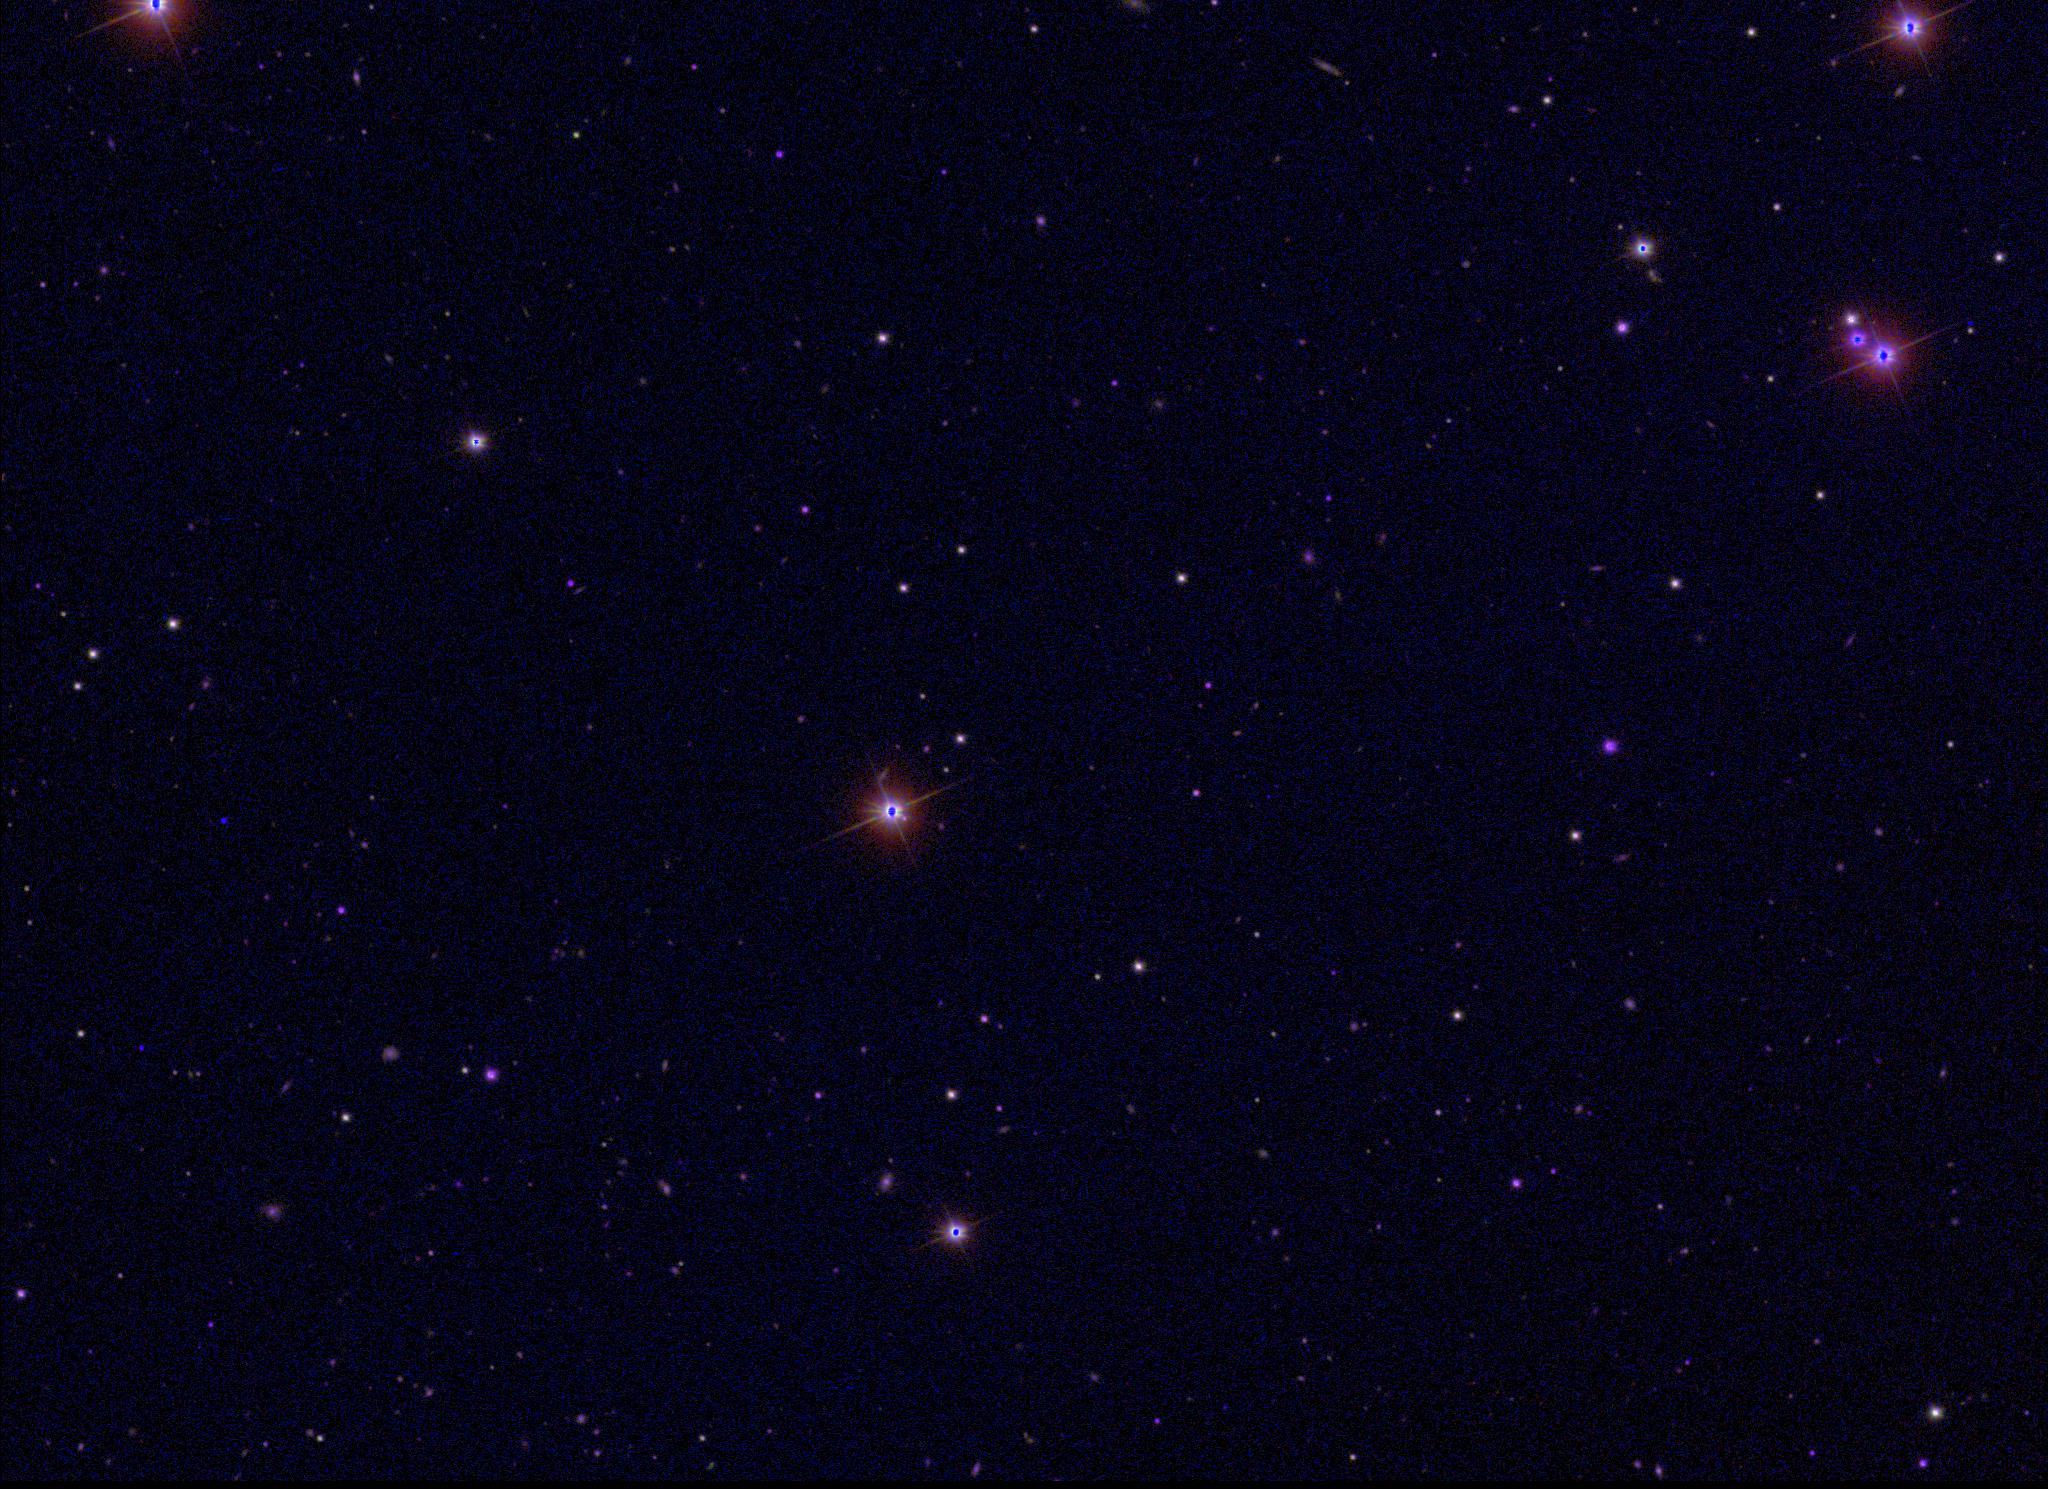L: (215, 810, 229, 824)
